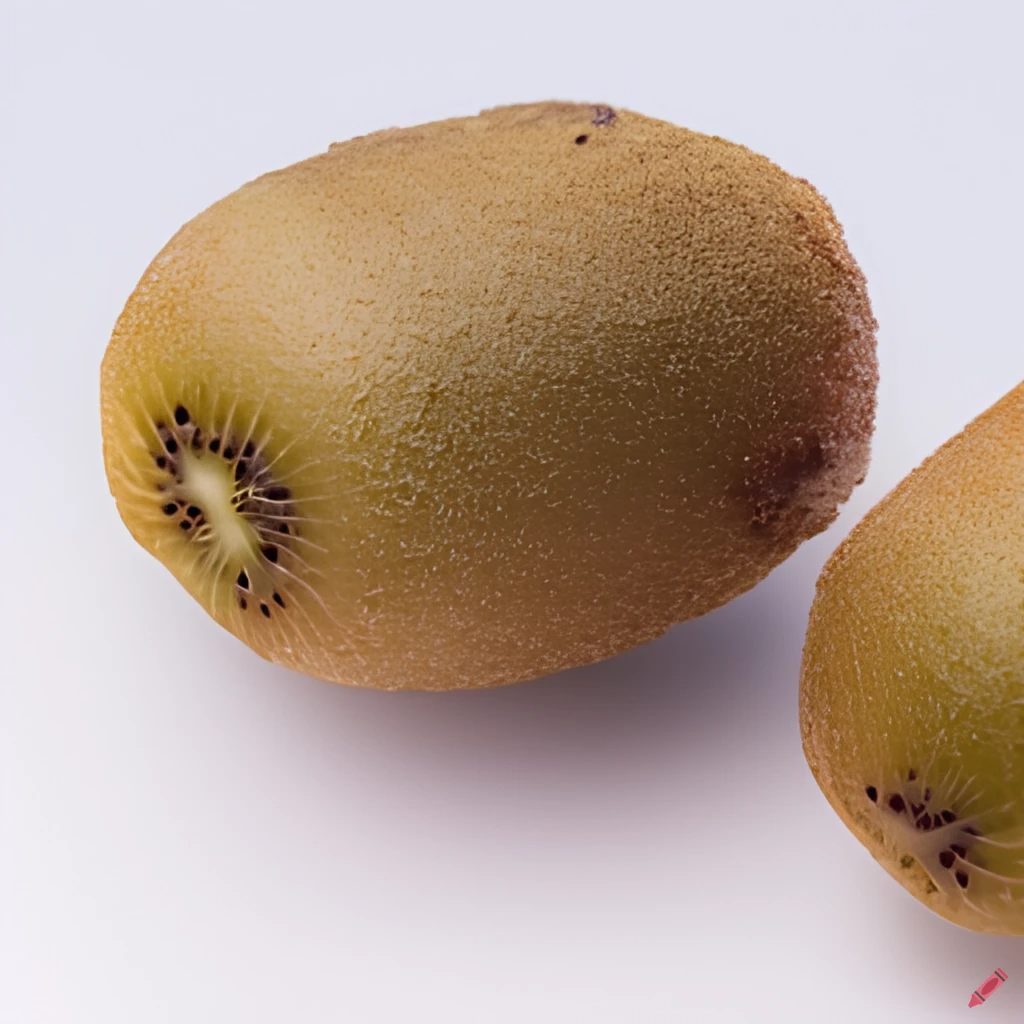Kiwi: (95, 102, 892, 726)
